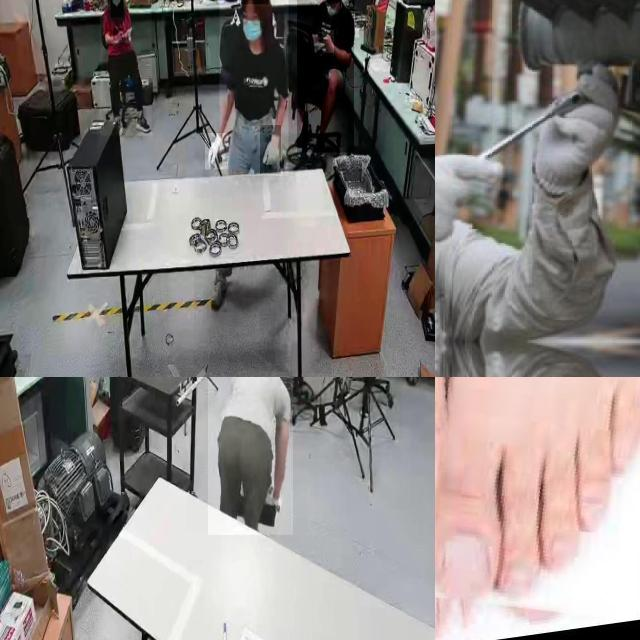Barefoots: (435, 377, 640, 638), (435, 377, 503, 640)
face_mask: (239, 7, 267, 51), (322, 2, 340, 20), (110, 0, 123, 17)
hand_glove: (536, 76, 618, 196), (435, 155, 501, 241), (260, 125, 282, 175), (205, 133, 229, 170)
hand_noglove: (322, 30, 334, 54), (113, 28, 123, 42), (120, 32, 130, 42)
person: (208, 377, 293, 535), (219, 0, 288, 176), (297, 0, 354, 153), (100, 0, 152, 136), (342, 377, 403, 441)
shoes: (134, 108, 152, 136)
